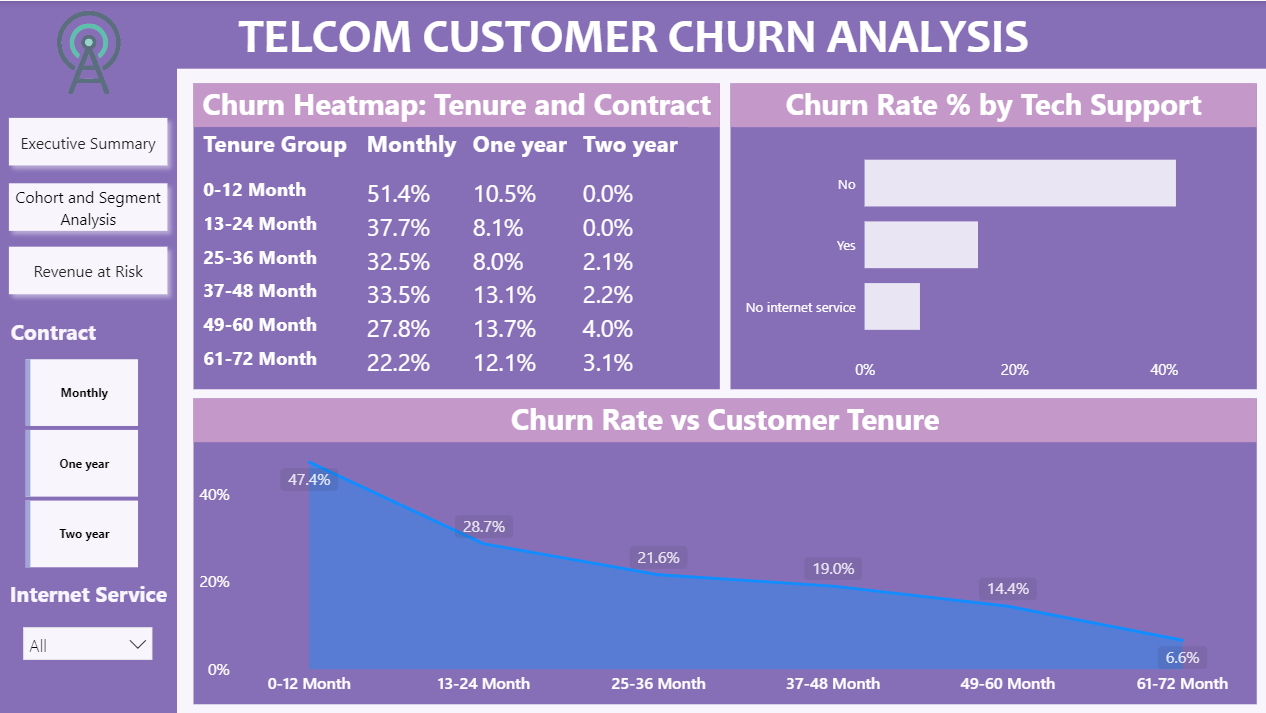

This screenshot's page, from the dashboard's own definition file:
{"tool":"powerbi","page":{"name":"Cohort and Segment Analysis","canvas":[1280,720],"ordinal":1},"visuals":[{"type":"shape","box":[737.4,83.3,531.5,308.9],"z":0},{"type":"shape","box":[195.3,401.3,1073.6,308.9],"z":1000},{"type":"shape","box":[195.3,83.3,531.5,308.9],"z":2000},{"type":"shape","box":[0,0,1279.5,68.1],"z":3000},{"type":"textbox","box":[0,0,1279.5,83.3],"z":4000},{"type":"shape","box":[0,0,178.7,719.2],"z":5000},{"type":"slicer","fields":{"Values":["telco_churn_cleaned.contract"]},"box":[0,354.3,163.5,224.1],"z":6000},{"type":"slicer","fields":{"Values":["telco_churn_cleaned.internetservice"]},"box":[13.6,622.3,149.9,57.5],"z":7000},{"type":"pageNavigator","box":[0,109,178.7,195.3],"z":8000},{"type":"image","box":[0,0,178.7,109],"z":9000},{"type":"textbox","box":[0,313.4,137.8,42.4],"z":10000},{"type":"textbox","box":[0,578.4,178.7,43.9],"z":11000},{"type":"lineChart","title":"Churn Rate vs Customer Tenure","fields":{"Category":["telco_churn_cleaned.tenure_group"],"Y":["telco_churn_cleaned.Churn Rate %"]},"box":[195.3,401.3,1073.6,308.9],"z":12000},{"type":"pivotTable","title":"Churn Heatmap: Tenure and Contract","fields":{"Rows":["telco_churn_cleaned.tenure_group"],"Columns":["telco_churn_cleaned.contract"],"Values":["telco_churn_cleaned.Churn Rate %"]},"box":[195.3,83.3,531.5,308.9],"z":13000},{"type":"clusteredBarChart","title":"Churn Rate % by Tech Support ","fields":{"Category":["telco_churn_cleaned.techsupport"],"Y":["telco_churn_cleaned.Churn Rate %"]},"box":[737.4,83.3,531.5,308.9],"z":14000}]}

Visuals, with their boxes in screenshot pixels (x1, y1, x2, y2), scaled from the page's 1280x720 canvas onto the 1266x713 screenshot:
shape: [left=729, top=82, right=1255, bottom=388]
shape: [left=193, top=397, right=1255, bottom=703]
shape: [left=193, top=82, right=719, bottom=388]
shape: [left=0, top=0, right=1265, bottom=67]
textbox: [left=0, top=0, right=1265, bottom=82]
shape: [left=0, top=0, right=177, bottom=712]
slicer - telco_churn_cleaned.contract: [left=0, top=351, right=162, bottom=573]
slicer - telco_churn_cleaned.internetservice: [left=13, top=616, right=162, bottom=673]
pageNavigator: [left=0, top=108, right=177, bottom=301]
image: [left=0, top=0, right=177, bottom=108]
textbox: [left=0, top=310, right=136, bottom=352]
textbox: [left=0, top=573, right=177, bottom=616]
"Churn Rate vs Customer Tenure" lineChart: [left=193, top=397, right=1255, bottom=703]
"Churn Heatmap: Tenure and Contract" pivotTable: [left=193, top=82, right=719, bottom=388]
"Churn Rate % by Tech Support " clusteredBarChart: [left=729, top=82, right=1255, bottom=388]
